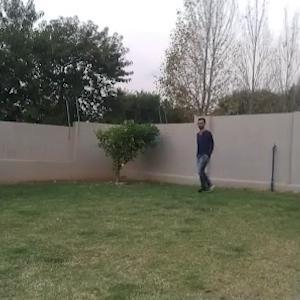follow: (193, 115, 213, 196)
